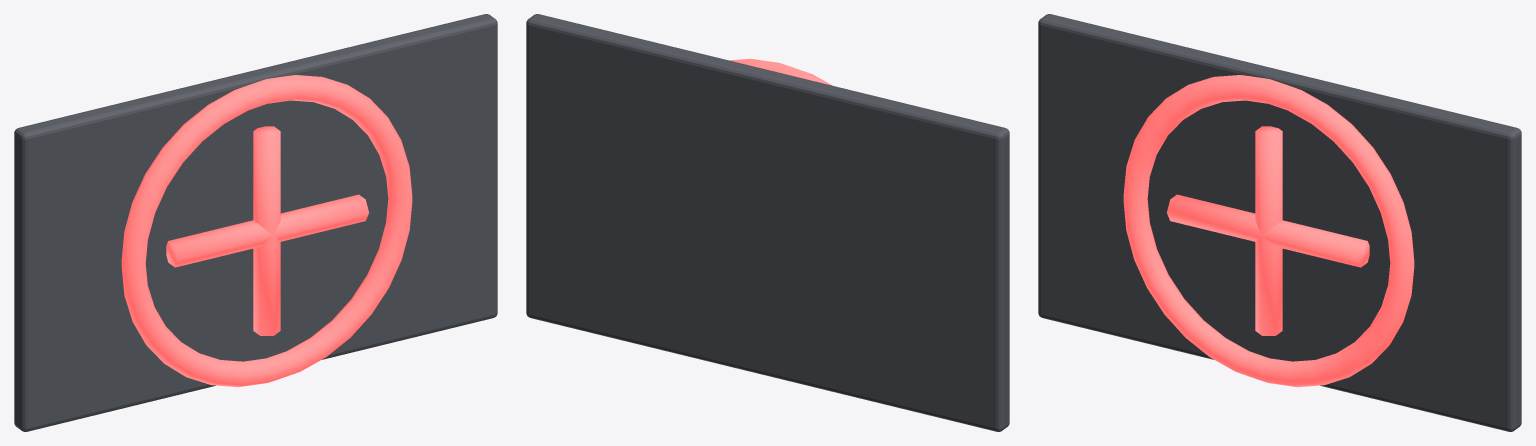
File: neon_sign_cross.glb
3 renders of one model, left to right at view 1: azimuth 30°, elevation 25°; view 2: azimuth 150°, elevation 25°; view 3: azimuth 330°, elevation 25°, orthographic.
Parts seen in each view (by area): view 1: GD_neon_sign_cross__m0, GD_neon_sign_cross__m1; view 2: GD_neon_sign_cross__m0, GD_neon_sign_cross__m1; view 3: GD_neon_sign_cross__m0, GD_neon_sign_cross__m1.
Boxes of the visible parts, x1,y1,x2,y2 form: GD_neon_sign_cross__m0: (14,14,497,431); GD_neon_sign_cross__m1: (121,75,412,387); GD_neon_sign_cross__m0: (526,14,1009,431); GD_neon_sign_cross__m1: (729,58,831,85); GD_neon_sign_cross__m0: (1038,14,1521,431); GD_neon_sign_cross__m1: (1123,75,1414,387).
Size of the model in its own units: 1 by 0.61 by 0.085.
